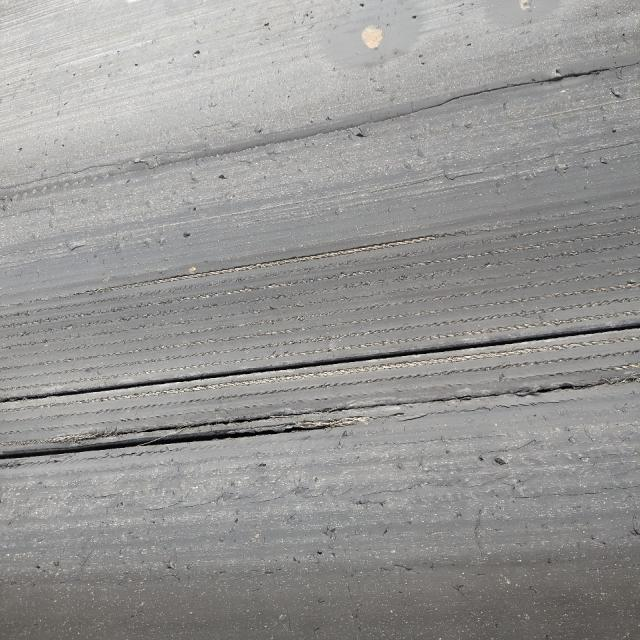Tear: (0, 316, 640, 405), (364, 58, 640, 129), (0, 418, 347, 466)
Wear: (0, 191, 639, 405)
